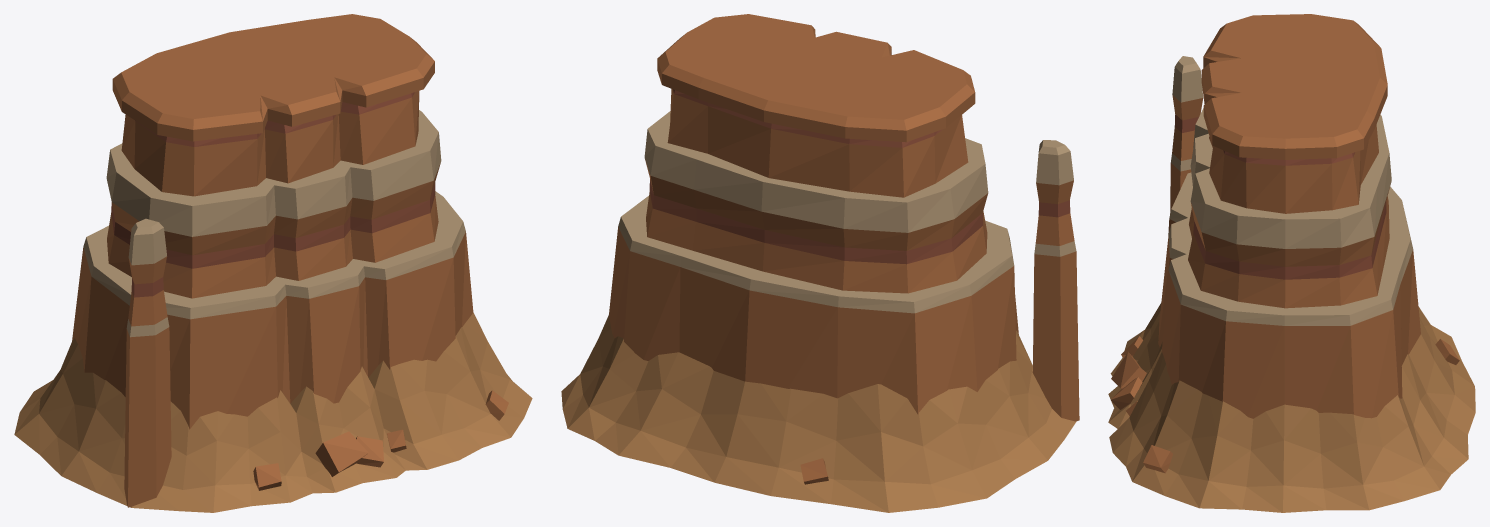
Rendered from mesa-backdrop-cbadea.glb.
3 renders of one model, left to right at view 1: azimuth 30°, elevation 25°; view 2: azimuth 150°, elevation 25°; view 3: azimuth 270°, elevation 25°, orthographic. The views are drawn at different scales.
Visible parts, largest first — view 1: mesa; view 2: mesa; view 3: mesa.
Part boxes in pixels (box(x1,y1,x2,y2)): mesa: box(14, 14, 532, 512); mesa: box(561, 14, 1079, 512); mesa: box(1108, 14, 1475, 512).
Bounding box in the file's own units: 31.99 × 24 × 23.99.
